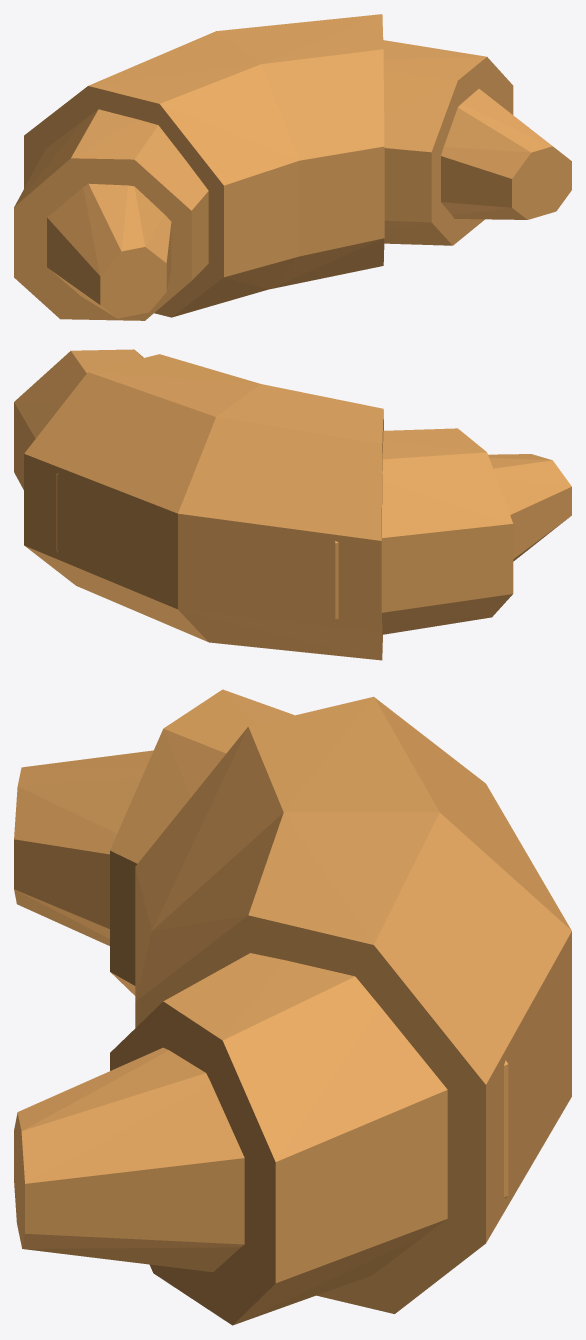
The model's file is Croissant.obj.
3 renders of one model, top to bottom at view 1: azimuth 30°, elevation 25°; view 2: azimuth 150°, elevation 25°; view 3: azimuth 270°, elevation 25°, orthographic. The views are drawn at different scales.
Visible parts, largest first — view 1: Croissant; view 2: Croissant; view 3: Croissant.
Part boxes in pixels (<box>): Croissant: <box>14,14,571,320</box>; Croissant: <box>14,349,571,660</box>; Croissant: <box>14,689,571,1325</box>.
Size of the model in its own units: 1.3 by 0.5498 by 0.7305.
